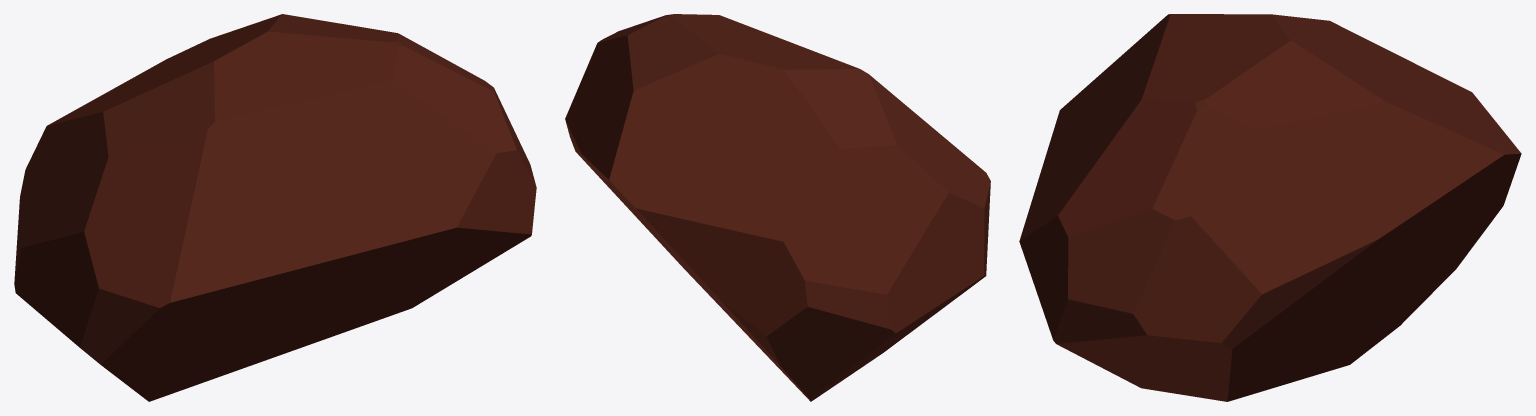
Rendered from Mesh_Hikari_Rock02S.FBX.
3 renders of one model, left to right at view 1: azimuth 30°, elevation 25°; view 2: azimuth 150°, elevation 25°; view 3: azimuth 270°, elevation 25°, orthographic. The views are drawn at different scales.
Visible parts, largest first — view 1: Rock02; view 2: Rock02; view 3: Rock02.
Boxes of the visible parts, <box> form: Rock02: <box>14,14,536,401</box>; Rock02: <box>565,14,990,401</box>; Rock02: <box>1019,14,1521,401</box>.
Size of the model in its own units: 4.09 by 2.97 by 3.41.
